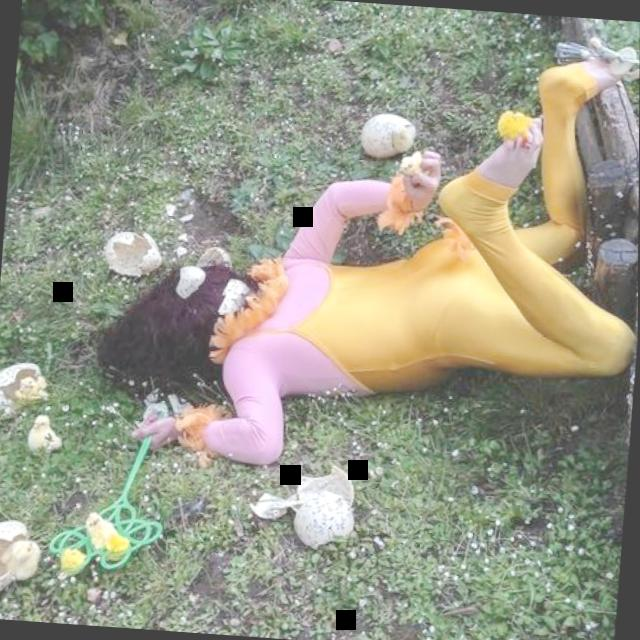Fall-Detected: (86, 0, 640, 557)
